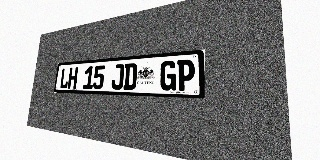1: (83, 66, 95, 89)
5: (93, 65, 105, 89)
D: (123, 63, 137, 90)
G: (160, 60, 177, 91)
H: (67, 67, 78, 89)
J: (111, 64, 124, 90)
L: (59, 68, 70, 89)
P: (176, 59, 195, 91)
